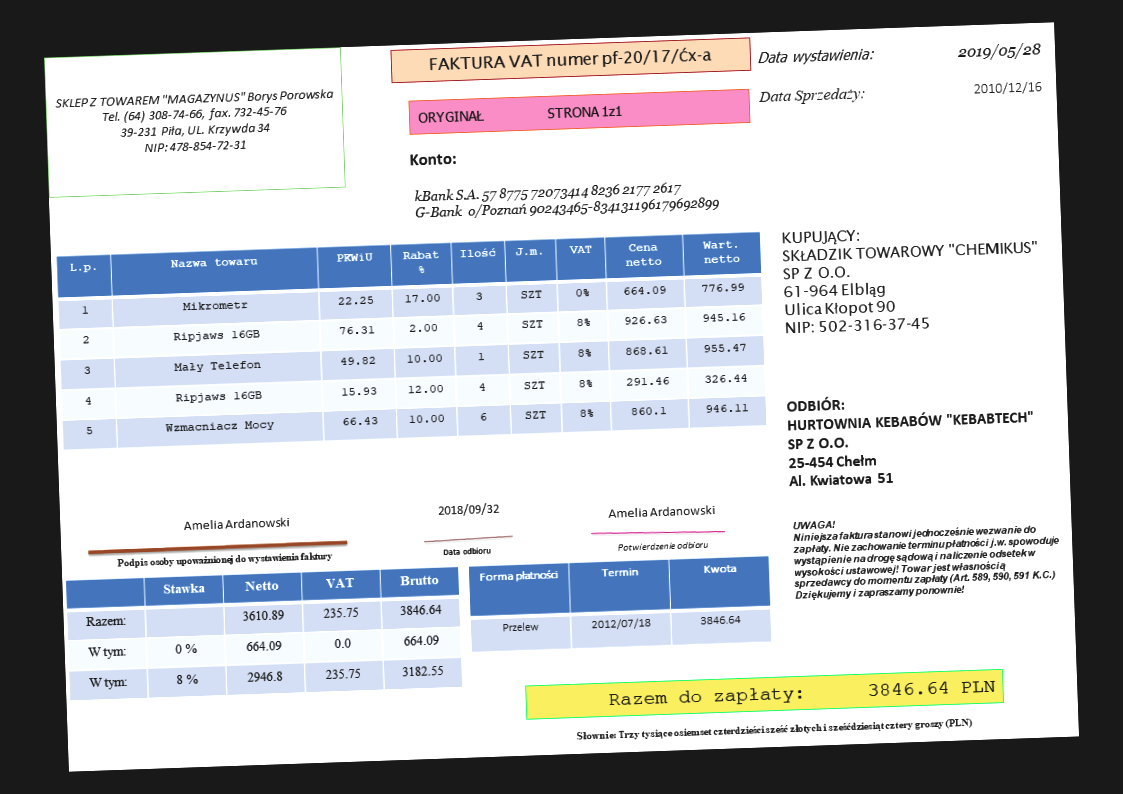Table: (54, 230, 768, 451), (64, 565, 462, 701), (467, 555, 772, 653)
TextBox: (778, 219, 1043, 337), (784, 388, 1039, 490), (790, 509, 1063, 601), (53, 85, 337, 158), (411, 177, 723, 223), (606, 677, 997, 711), (574, 715, 973, 743), (427, 44, 714, 75), (417, 102, 624, 126), (115, 548, 333, 570), (756, 43, 875, 69), (757, 85, 867, 106), (182, 515, 291, 534), (955, 40, 1043, 63), (606, 503, 716, 520), (615, 538, 710, 554), (971, 79, 1043, 96), (436, 501, 500, 518), (407, 149, 457, 169), (440, 544, 491, 558)
